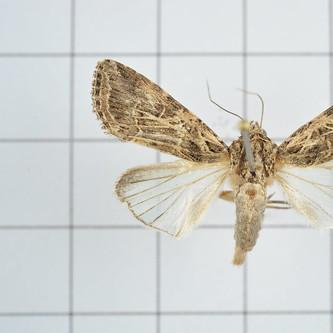Spodoptera litura: (89, 58, 333, 267)
